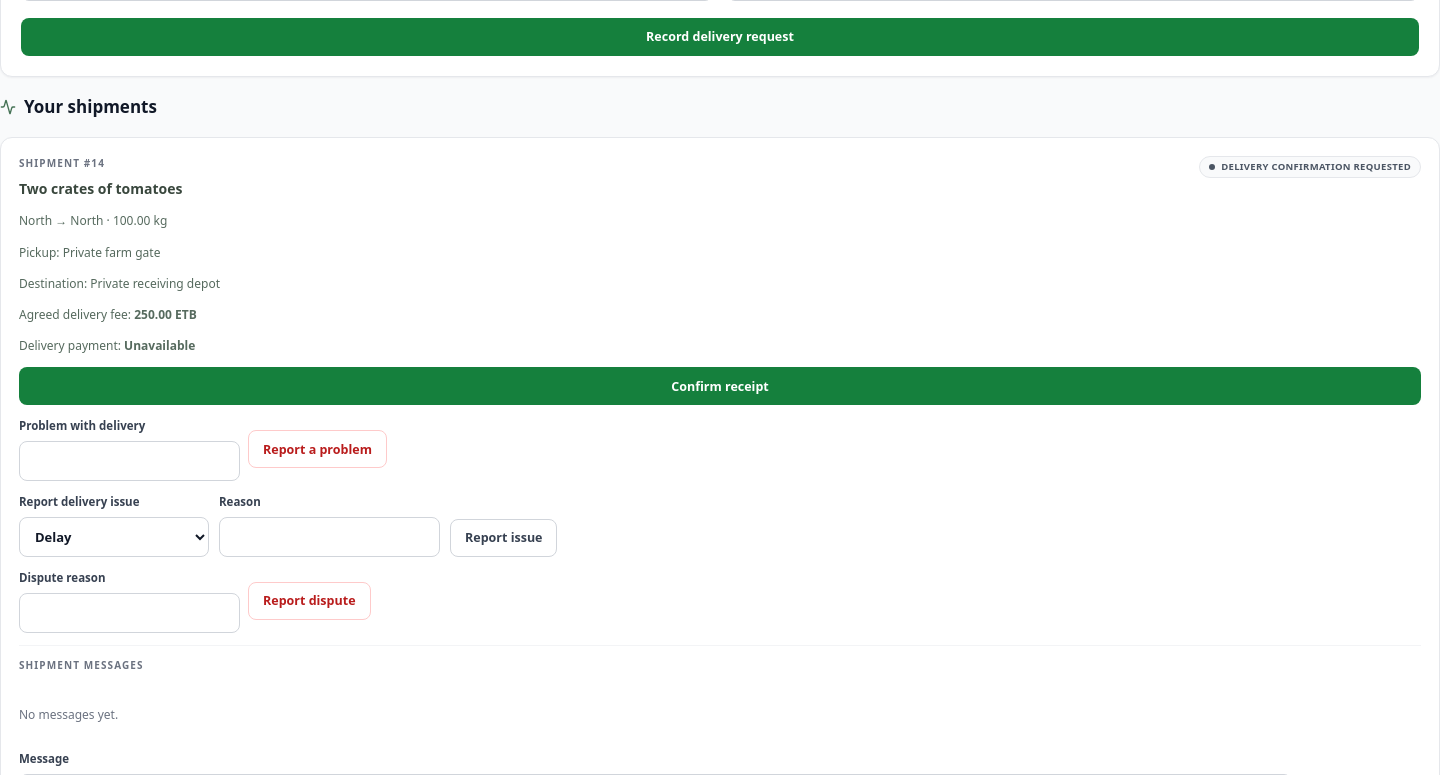
Phase 3 shipment workspace › lets only the buyer-facing delivery flow confirm receipt
(page scrolled)
Expected: the text "Delivery Confirmation Requested" is shown, [1199,156,1421,178]
Step 1. Click the button "Confirm receipt" → (720, 386), box [19,367,1421,405]
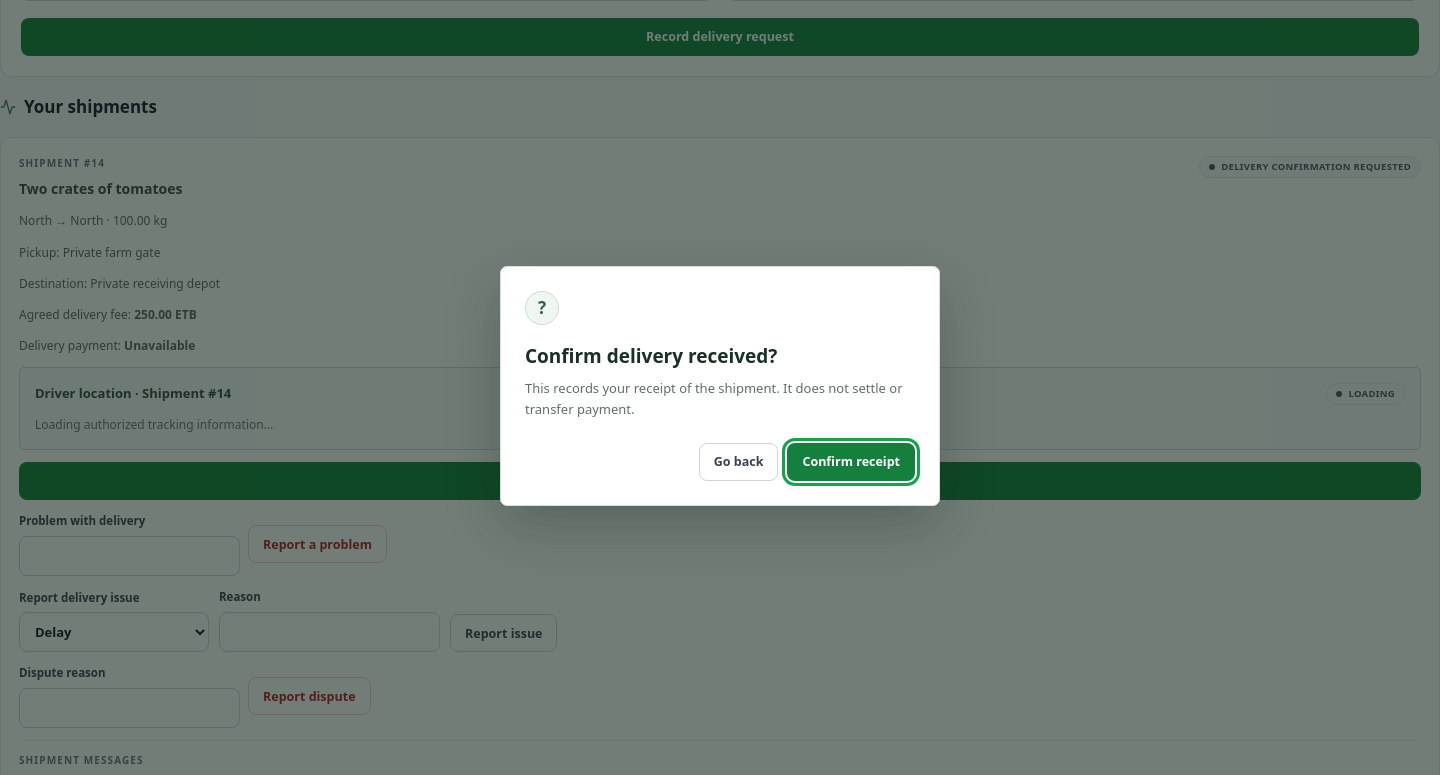
Step 2. Click the button "Confirm receipt" → (851, 462), box [788,443,915,481]
(page scrolled)
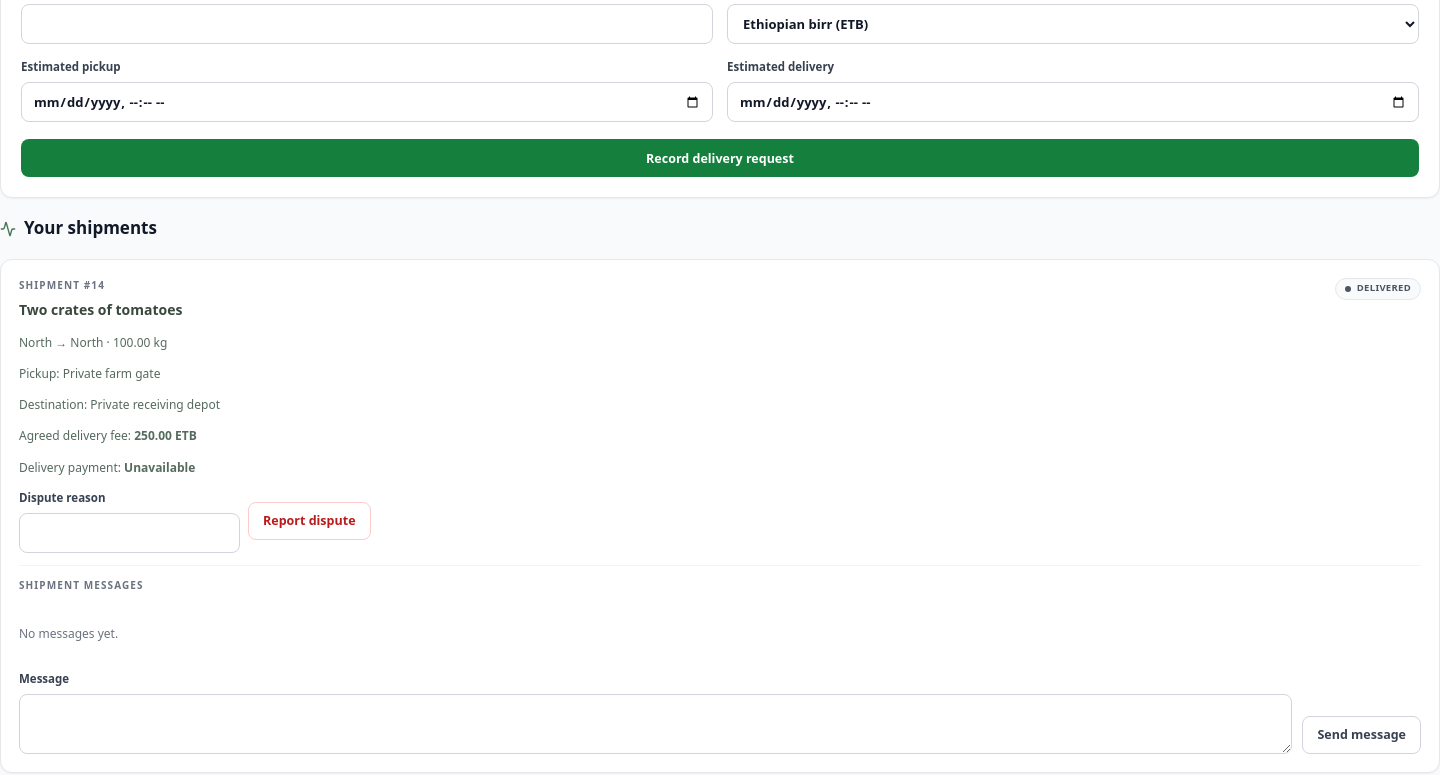
Result: the text "Delivered" is shown at [1335,278,1421,300]
